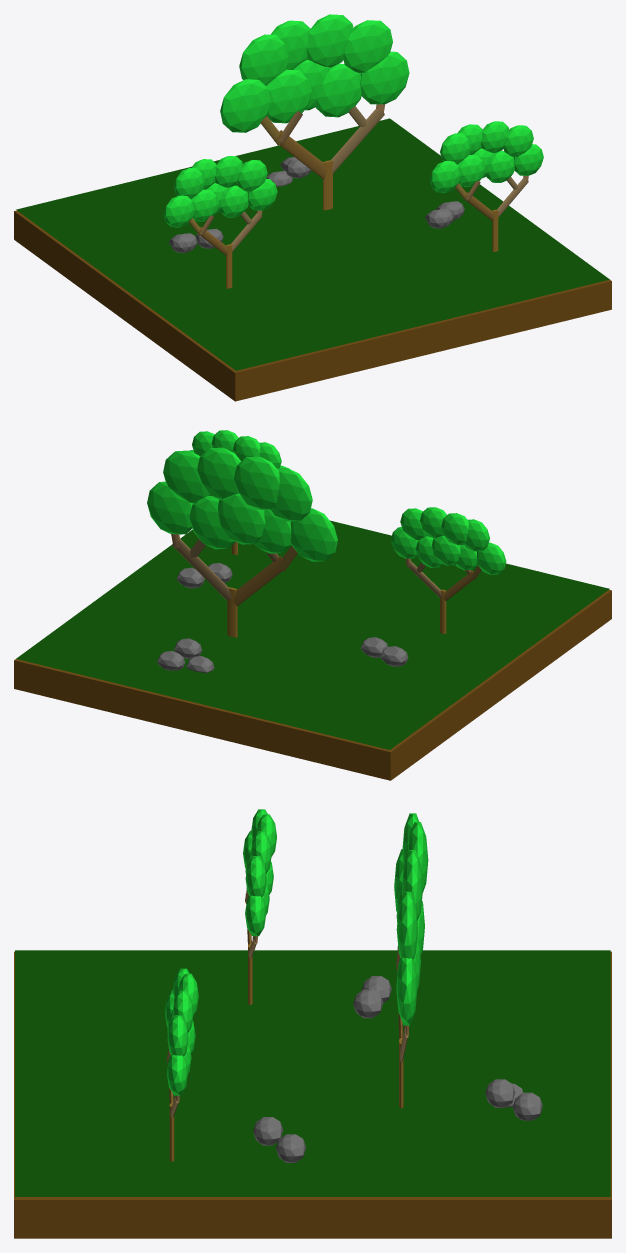
The model's file is grass2.glb.
The picture shows the model from 3 angles, top to bottom: view 1: azimuth 30°, elevation 25°; view 2: azimuth 150°, elevation 25°; view 3: azimuth 270°, elevation 25°; orthographic projection. The views are drawn at different scales.
Parts seen in each view (by area): view 1: Plane, Cube, Cylinder.003, Cylinder.002, Cylinder.001; view 2: Plane, Cube, Cylinder.003, Cylinder.002, Cylinder.001; view 3: Plane, Cube, Cylinder.003, Cylinder.001, Cylinder.002, Icosphere, Icosphere.005, Icosphere.002, Icosphere.003, Icosphere.004.
Boxes of the visible parts, bbox=[...] form: Plane: bbox=[16, 118, 609, 370]; Cube: bbox=[14, 210, 611, 401]; Cylinder.003: bbox=[220, 14, 409, 210]; Cylinder.002: bbox=[163, 156, 277, 288]; Cylinder.001: bbox=[429, 121, 543, 251]; Plane: bbox=[16, 520, 609, 749]; Cube: bbox=[14, 589, 611, 780]; Cylinder.003: bbox=[147, 447, 337, 637]; Cylinder.002: bbox=[390, 507, 506, 633]; Cylinder.001: bbox=[189, 430, 289, 554]; Plane: bbox=[15, 950, 610, 1196]; Cube: bbox=[14, 951, 611, 1238]; Cylinder.003: bbox=[394, 813, 428, 1108]; Cylinder.001: bbox=[164, 968, 198, 1161]; Cylinder.002: bbox=[243, 809, 276, 1004]; Icosphere: bbox=[353, 989, 383, 1018]; Icosphere.005: bbox=[485, 1079, 515, 1107]; Icosphere.002: bbox=[276, 1134, 305, 1162]; Icosphere.003: bbox=[253, 1117, 283, 1145]; Icosphere.004: bbox=[512, 1092, 542, 1120].
Bounding box in the file's own units: 100 × 56.42 × 102.
